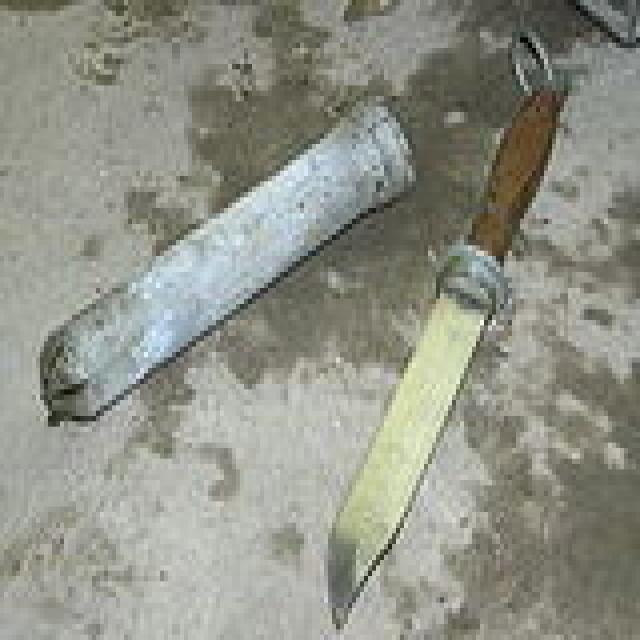Knife: (316, 70, 603, 630)
